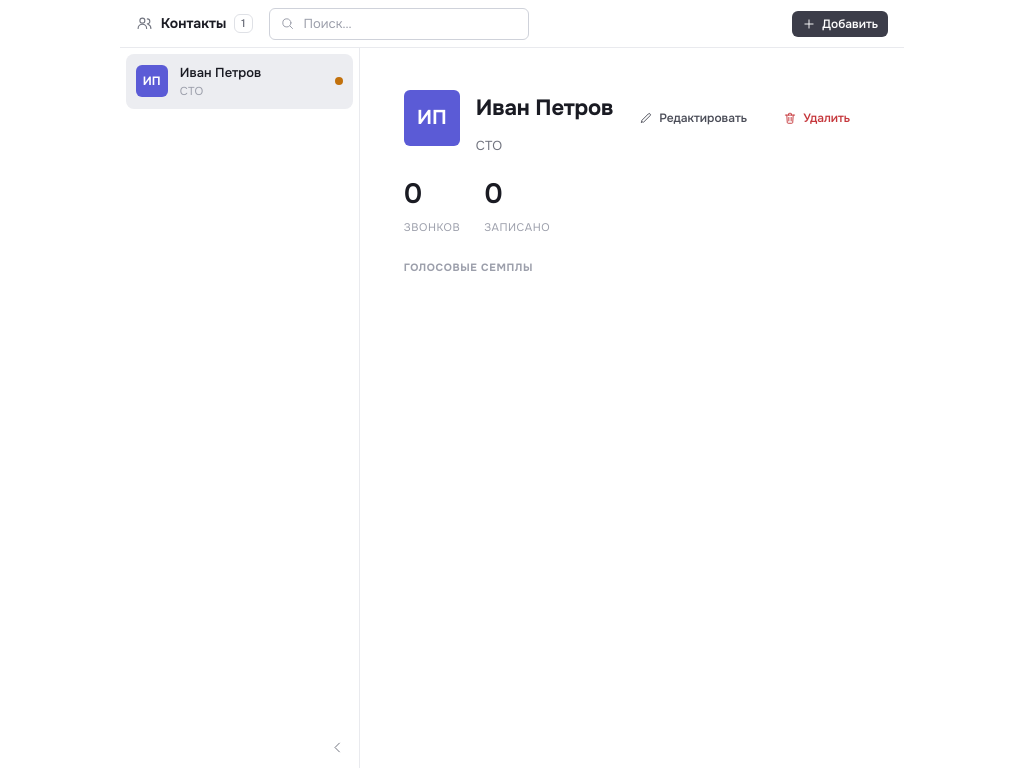
Test: ContactsPage › successful create closes the dialog
Expected: the text "Иван Петров" is shown, [180,64,261,81]
Step 1. Click the button with aria-label "Добавить контакт" → (840, 24), box [792,10,888,36]
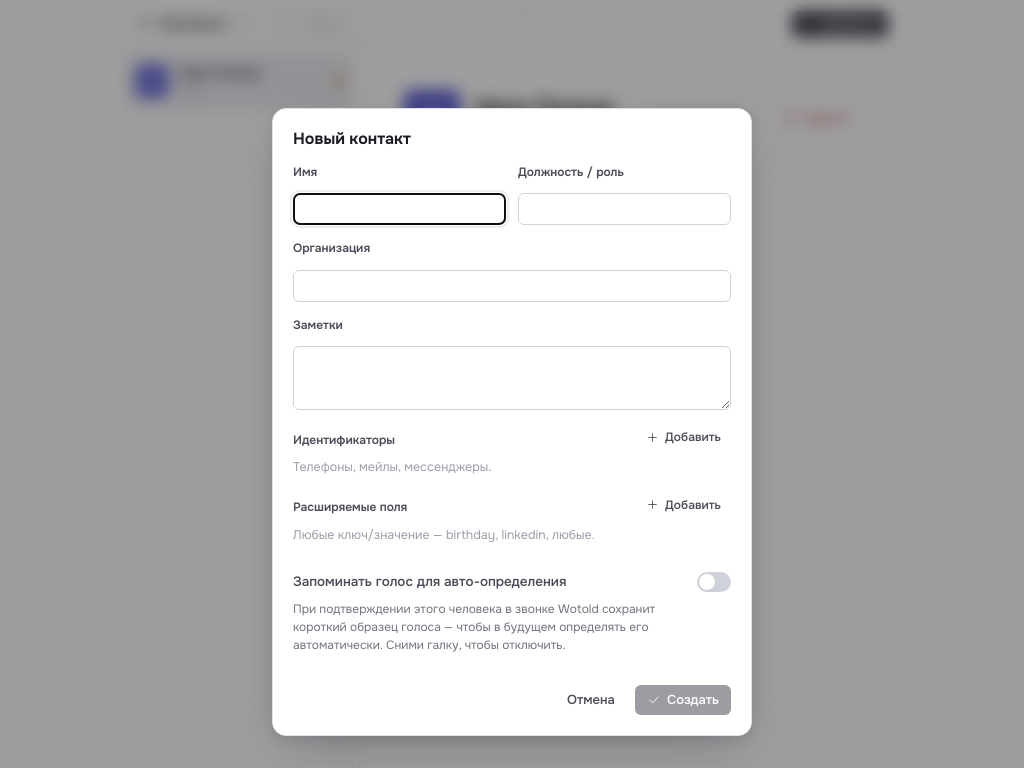
Step 2. Type "Анна" into the field labelled "Имя" → (400, 209), box [293,193,506,225]
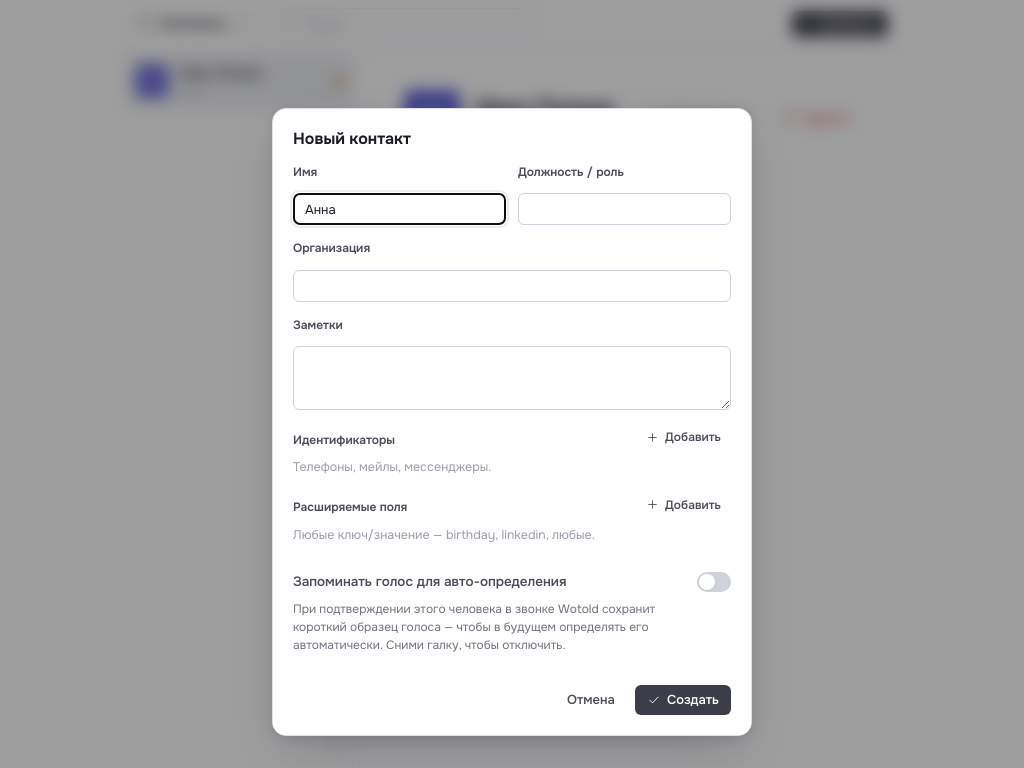
Step 3. Submit the form, box [293,162,731,667]
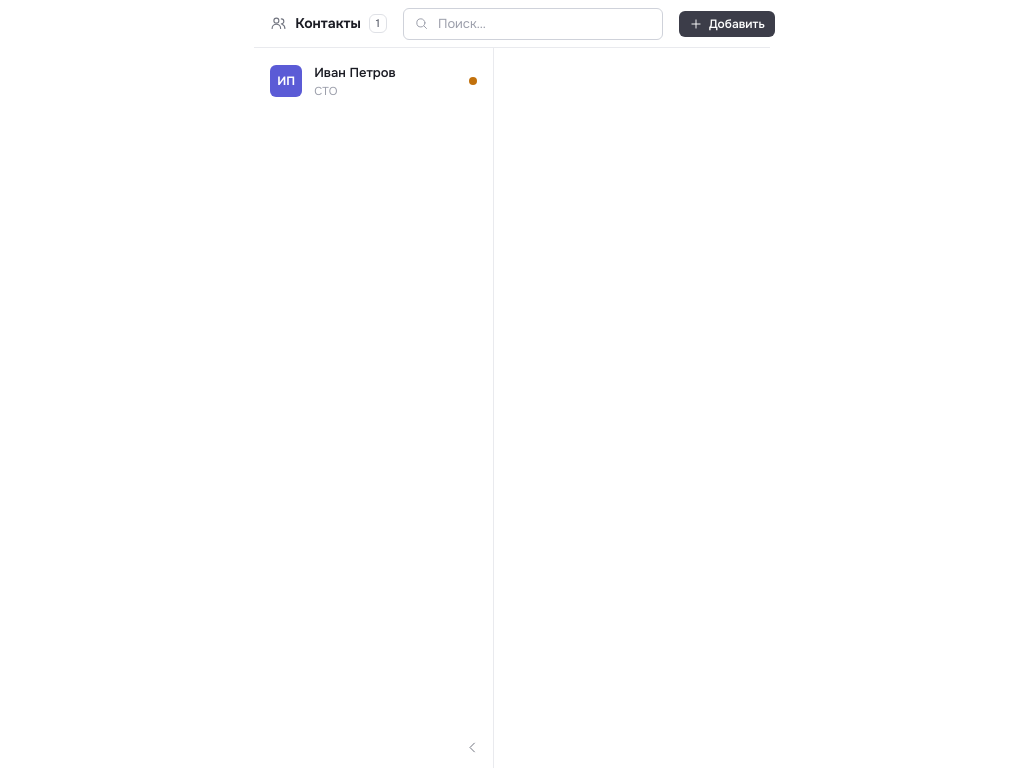
Expected: the dialog is gone
